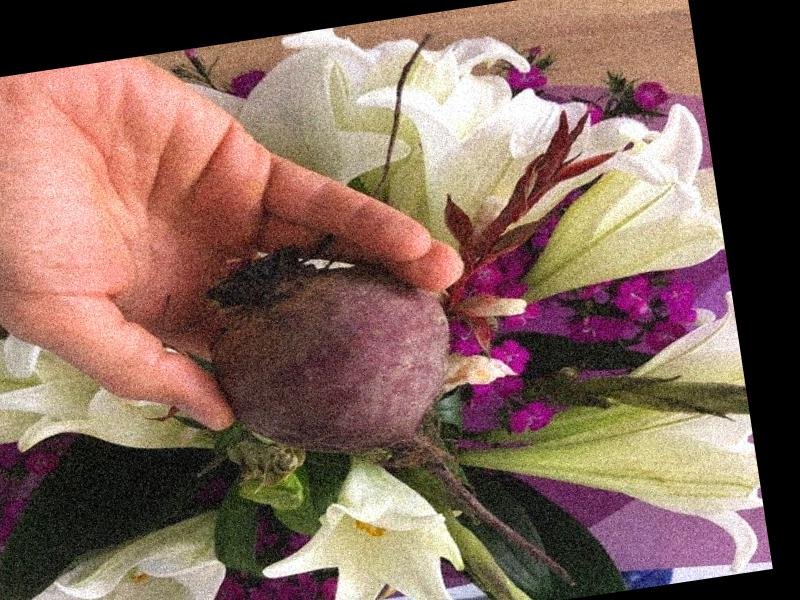Beet: (198, 214, 576, 600)
